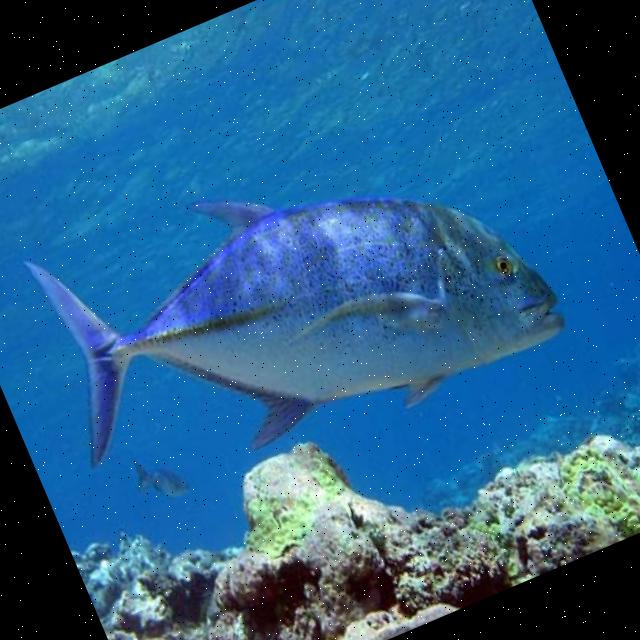ikan: (3, 71, 576, 533)
